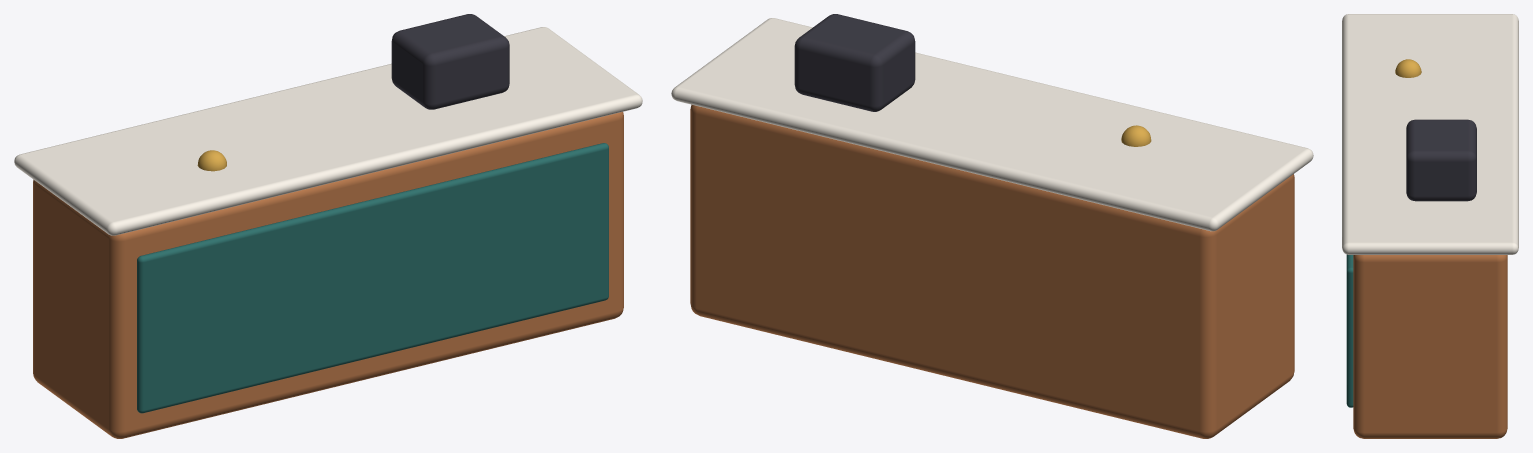
Rendered from counter.glb.
The picture shows the model from 3 angles, left to right: view 1: azimuth 30°, elevation 25°; view 2: azimuth 150°, elevation 25°; view 3: azimuth 270°, elevation 25°; orthographic projection. The views are drawn at different scales.
Visible parts, largest first — view 1: FrontPanel, Top, Body, Register; view 2: Body, Top, Register; view 3: Top, Body, Register, FrontPanel, Bell.
Boxes of the visible parts, x1,y1,x2,y2 form: FrontPanel: [137, 143, 608, 413]; Top: [14, 27, 642, 235]; Body: [33, 112, 623, 438]; Register: [391, 14, 509, 109]; Body: [690, 104, 1294, 438]; Top: [671, 18, 1313, 231]; Register: [794, 14, 915, 111]; Top: [1342, 14, 1518, 254]; Body: [1353, 255, 1507, 438]; Register: [1406, 119, 1476, 201]; FrontPanel: [1346, 254, 1353, 407]; Bell: [1395, 59, 1421, 77].
Size of the model in its own units: 2.5 by 1.25 by 0.8.
